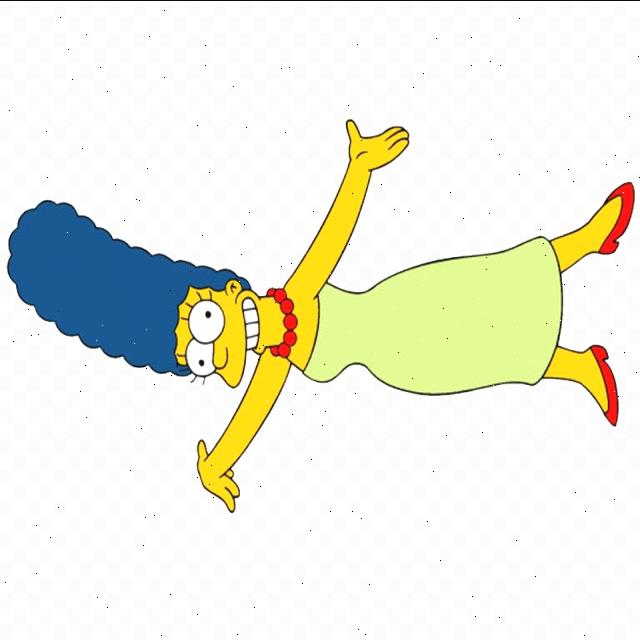Marge Simpson: (3, 194, 301, 390)
